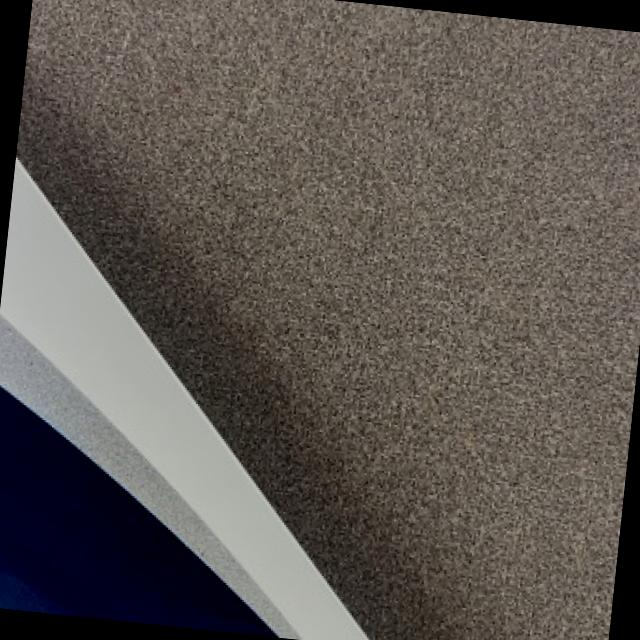healthy: (16, 0, 640, 640)
